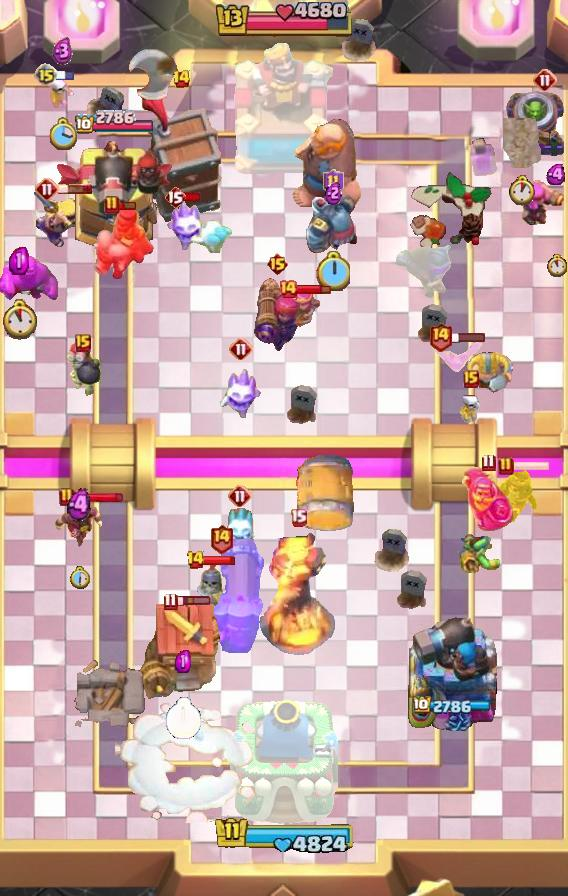archer: (283, 287, 321, 331)
axe: (125, 48, 181, 102)
bar: (73, 491, 124, 504), (175, 595, 212, 607), (513, 460, 550, 472), (450, 331, 486, 343), (57, 183, 93, 195), (296, 283, 331, 295), (202, 555, 236, 566), (184, 191, 203, 203), (56, 69, 75, 81), (117, 200, 137, 211)
bar-level: (209, 523, 234, 554), (428, 321, 453, 352), (228, 484, 252, 508), (229, 337, 253, 361), (35, 177, 59, 201), (533, 68, 557, 92), (34, 63, 58, 87), (266, 252, 289, 276), (323, 169, 344, 195), (164, 185, 186, 209), (278, 279, 298, 299), (186, 550, 205, 570), (172, 69, 191, 89), (290, 508, 307, 527), (59, 487, 75, 507), (498, 456, 514, 476), (104, 195, 120, 215), (463, 370, 479, 388), (75, 334, 91, 352), (163, 592, 178, 611), (481, 453, 496, 472)
barbarian-evolution: (34, 192, 93, 249)
bat-evolution: (430, 337, 482, 375)
bomber: (65, 343, 101, 397)
cannoneer-tower: (53, 138, 175, 256), (407, 611, 499, 731)
clock: (0, 299, 39, 340), (165, 697, 202, 740), (316, 251, 350, 291), (48, 117, 77, 152), (508, 175, 537, 206), (546, 254, 568, 277), (69, 566, 90, 589)
dirt: (503, 118, 541, 168)
elite-barbarian: (466, 350, 514, 393)
elixir: (67, 488, 91, 522), (52, 37, 73, 66), (9, 247, 29, 275), (546, 164, 568, 185), (325, 180, 342, 205), (175, 650, 191, 673)
elixir-golem-mid: (0, 255, 58, 301)
firecracker: (516, 175, 568, 229)
firecracker-evolution: (253, 278, 301, 354)
guard: (190, 561, 228, 623)
ice-spirit: (218, 508, 263, 550), (189, 219, 235, 253)
ice-spirit-evolution: (219, 366, 263, 420), (165, 198, 209, 252)
king-tower: (228, 41, 340, 181), (230, 698, 338, 826)
king-tower-bar: (210, 815, 358, 857), (213, 2, 355, 40)
knight-evolution: (462, 466, 515, 531)
little-prince: (496, 468, 540, 522)
mega-minion: (305, 193, 361, 253)
mortar-evolution: (504, 89, 568, 159)
musketeer: (393, 243, 453, 301)
ram-rider: (91, 203, 155, 283)
skeleton: (457, 392, 485, 424), (48, 76, 76, 108)
spear-goblin: (457, 532, 505, 574)
tower-bar: (74, 110, 155, 136), (413, 696, 493, 716)
wizard: (54, 496, 104, 550)
